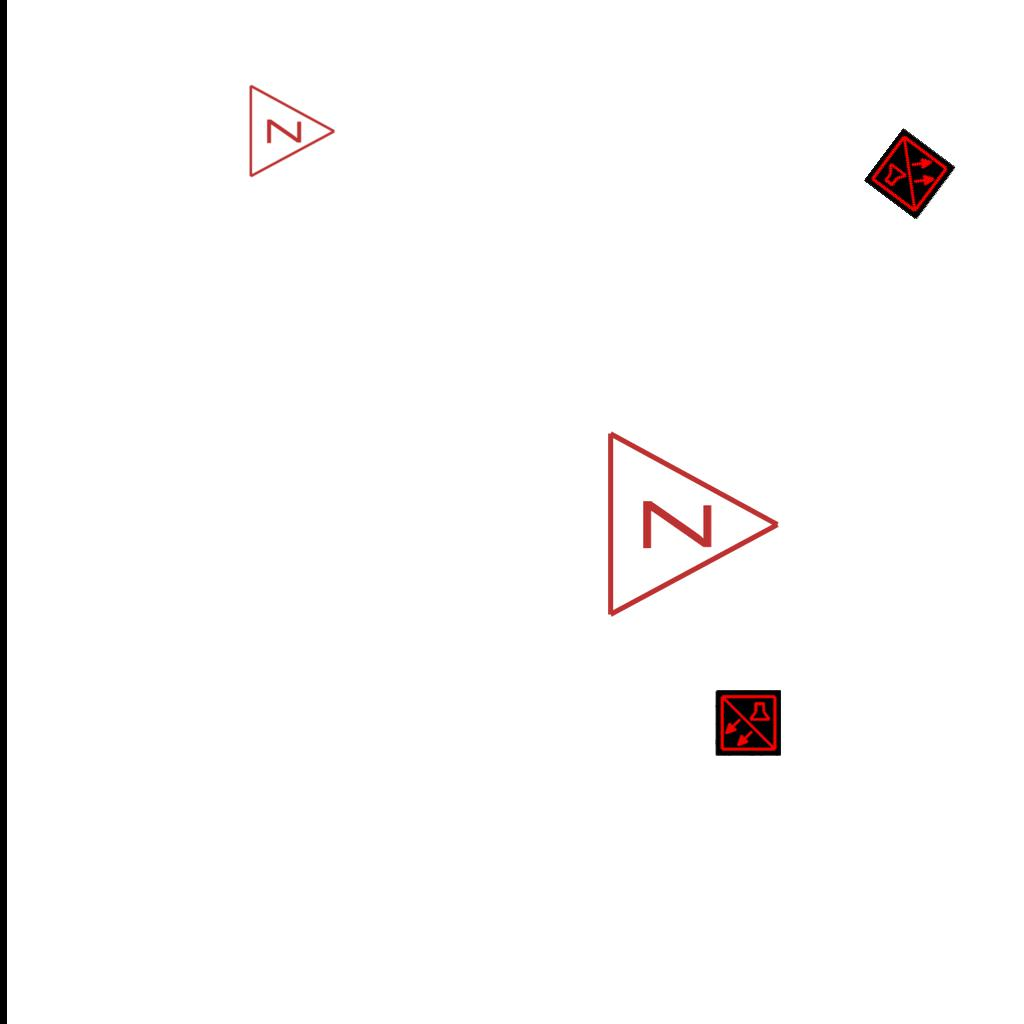OKW_Multisensormelder_(Kombination_optischer_Rauch-Kahlenmonoxid_Waerme-Melder): (863, 127, 957, 221), (715, 690, 781, 756)
Zimmersignalleuchte: (593, 424, 793, 620), (242, 81, 342, 179)
